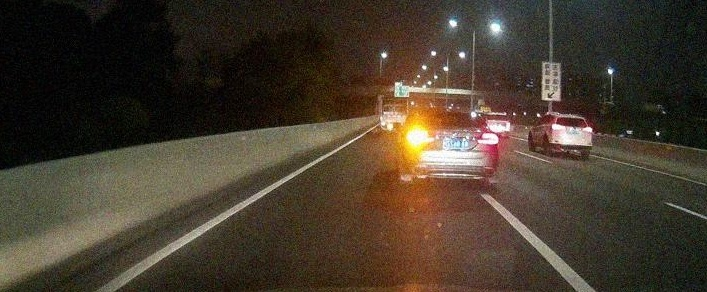L_light: (408, 129, 434, 143), (551, 123, 566, 131)
R_light: (477, 131, 499, 145), (583, 126, 592, 133)
T_light: (446, 112, 462, 116), (568, 117, 577, 119)
night-left: (407, 108, 500, 183)
night-no: (550, 112, 593, 158)
